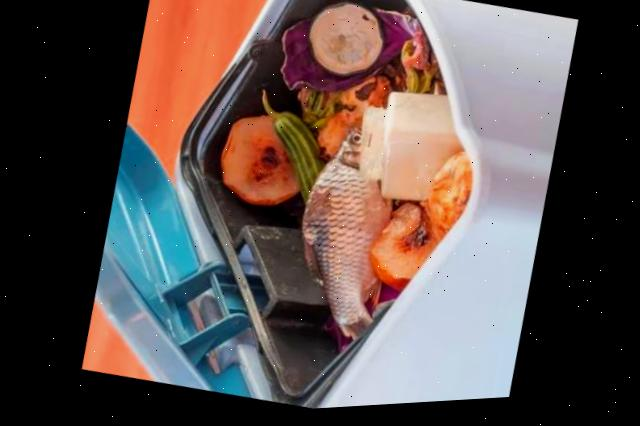Garbage: (195, 0, 469, 411)
